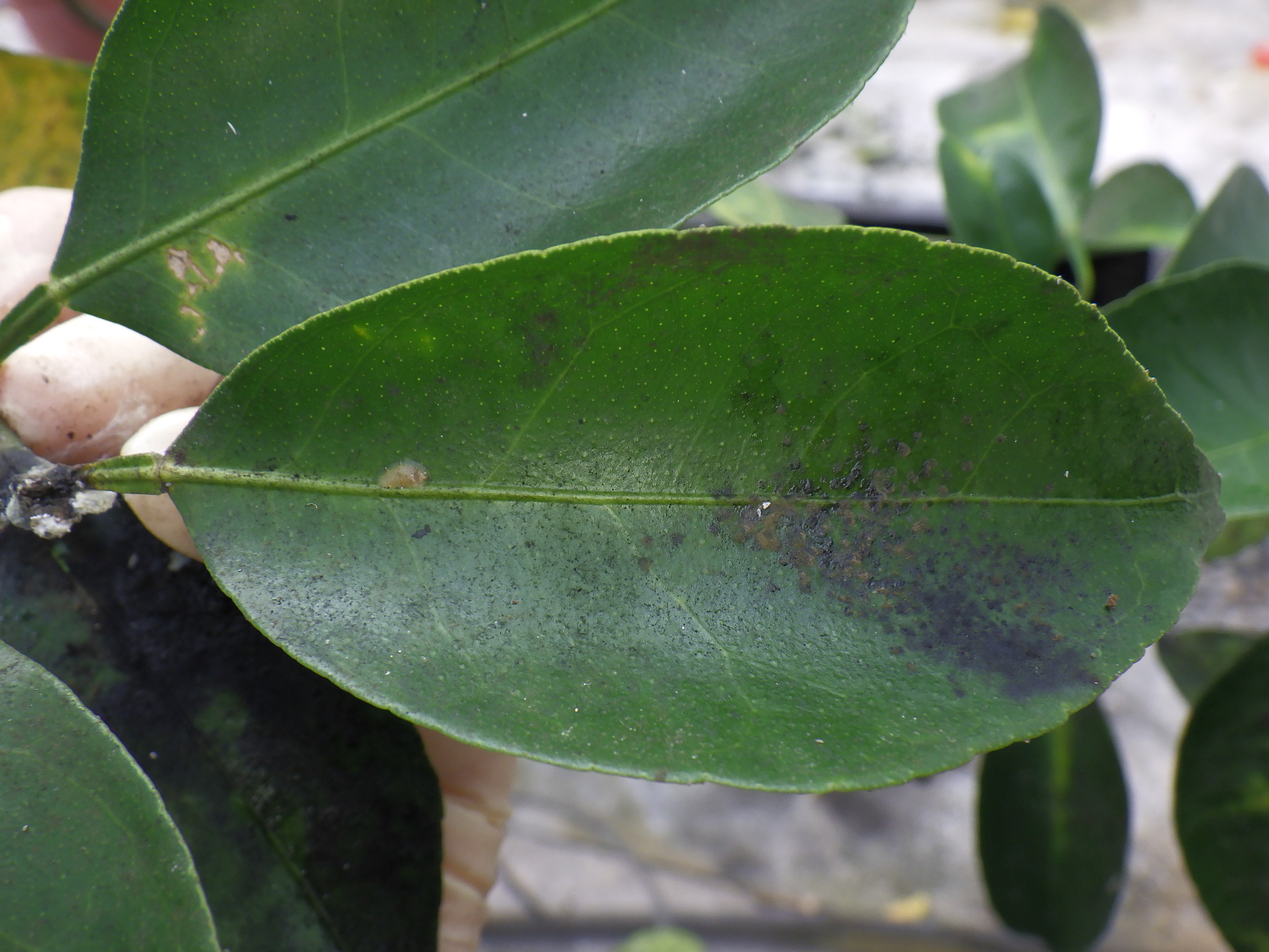Sooty_Mold: (167, 228, 1223, 791)
